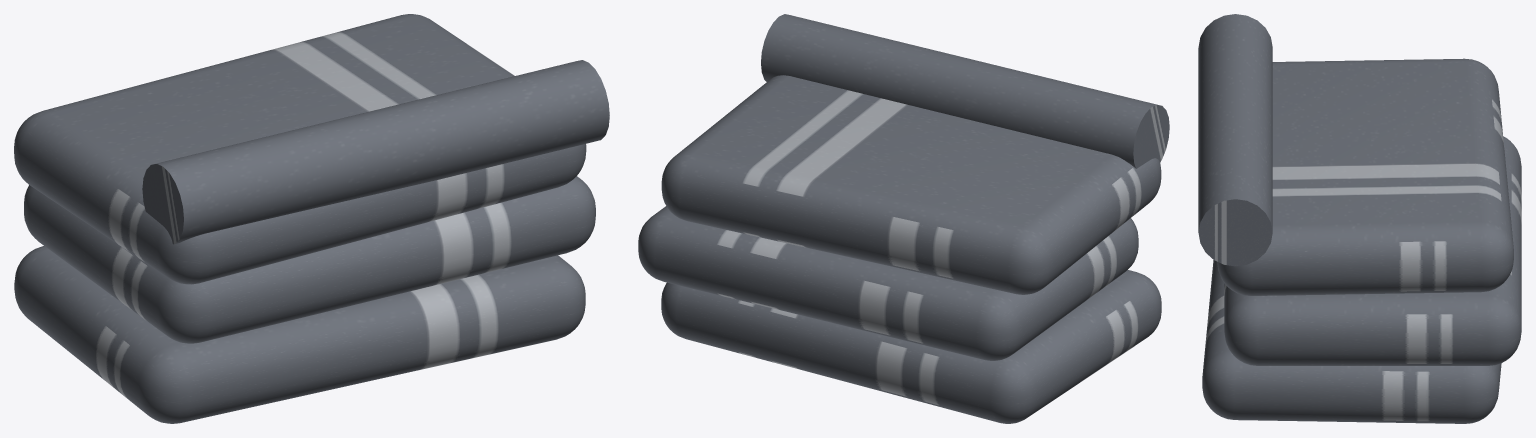
File: cobija.fbx
The picture shows the model from 3 angles, left to right: view 1: azimuth 30°, elevation 25°; view 2: azimuth 150°, elevation 25°; view 3: azimuth 270°, elevation 25°; orthographic projection. The views are drawn at different scales.
Parts seen in each view (by area): view 1: etiqueta_03, etiqueta, etiqueta_04, etiqueta_02; view 2: etiqueta_03, etiqueta_02, etiqueta, etiqueta_04; view 3: etiqueta_03, etiqueta_02, etiqueta, etiqueta_04.
Part boxes in pixels (box(x1,y1,x2,y2)): etiqueta_03: box(14, 14, 586, 284); etiqueta: box(14, 246, 585, 423); etiqueta_04: box(142, 60, 609, 244); etiqueta_02: box(24, 176, 595, 343); etiqueta_03: box(661, 75, 1161, 294); etiqueta_02: box(638, 206, 1138, 360); etiqueta: box(661, 270, 1161, 423); etiqueta_04: box(761, 14, 1169, 168); etiqueta_03: box(1217, 58, 1513, 295); etiqueta_02: box(1224, 136, 1521, 365); etiqueta: box(1202, 260, 1501, 423); etiqueta_04: box(1198, 14, 1272, 266).
Size of the model in its own units: 1.7 by 0.9403 by 1.17.
Materials: 1 (1 with a texture image).
